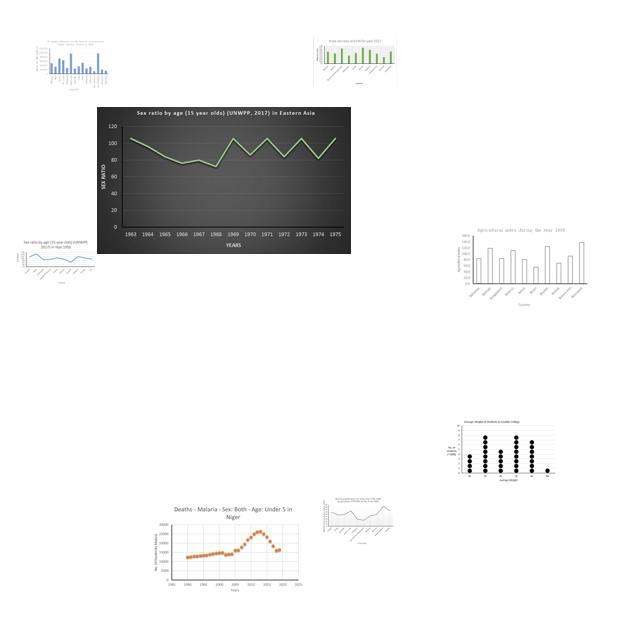Graph: (97, 107, 351, 254), (151, 502, 304, 593), (453, 226, 589, 307), (444, 418, 557, 484), (313, 37, 397, 87), (34, 39, 109, 93), (16, 239, 97, 285), (322, 497, 394, 545)
